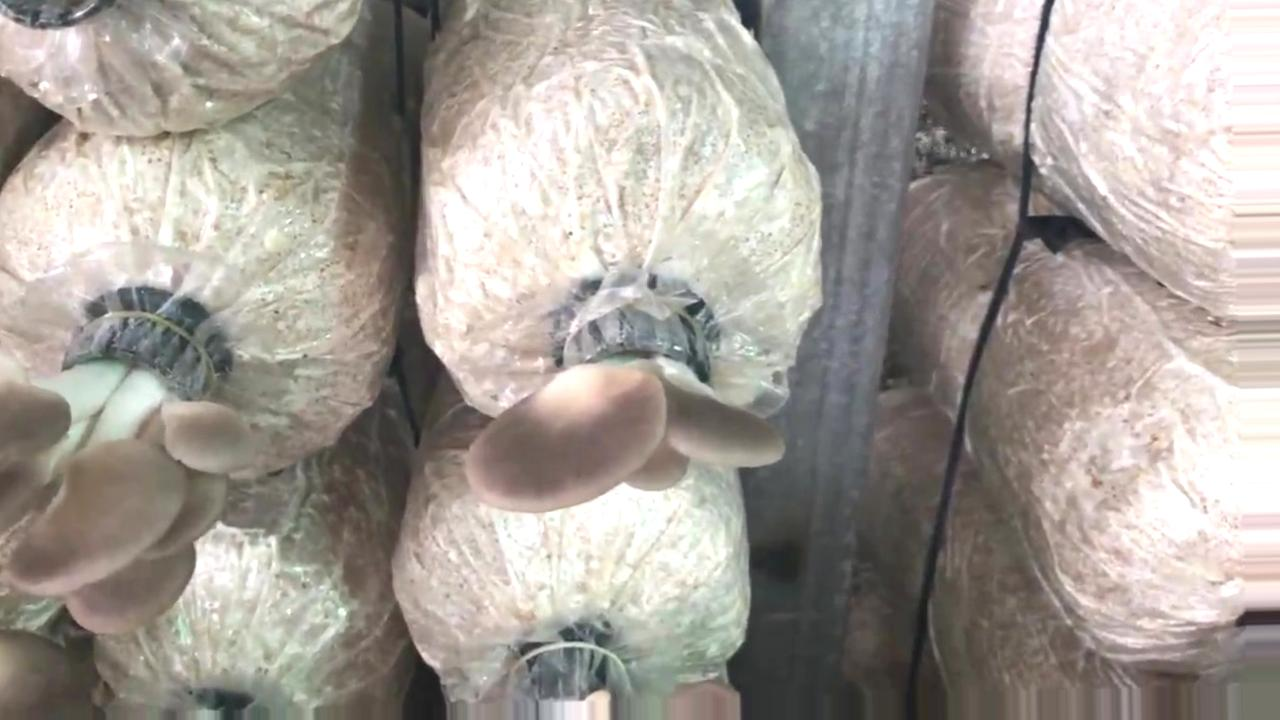nam: (1, 309, 259, 639), (463, 299, 789, 517)
